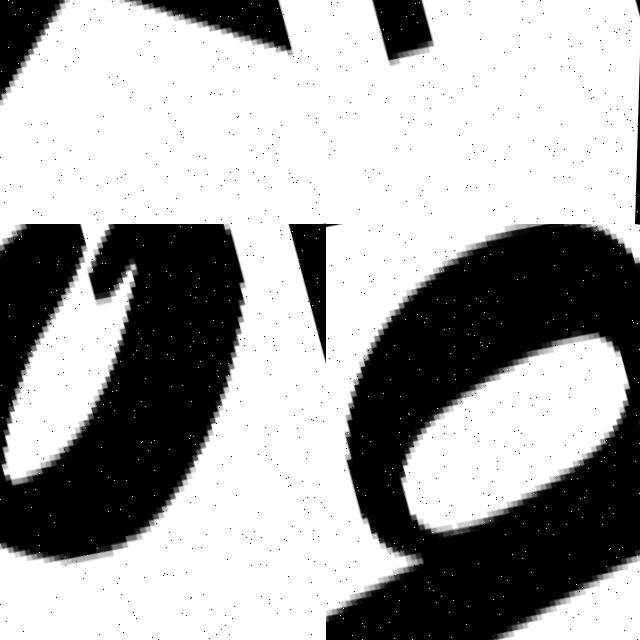9: (0, 224, 326, 640)
I: (326, 0, 613, 224)
P: (326, 224, 640, 640)
X: (0, 0, 326, 224)
